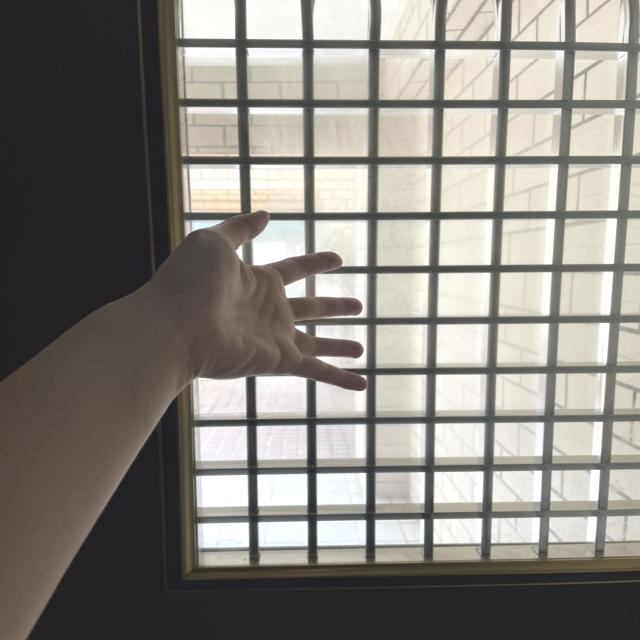no_glove: (135, 194, 383, 431)
